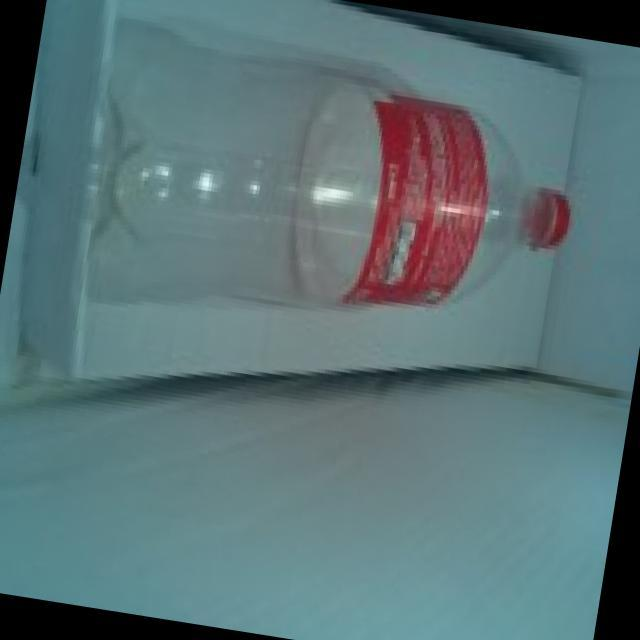good: (45, 12, 600, 400)
